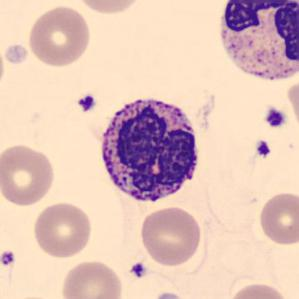Basophil: (94, 90, 206, 210)
Neutrophil: (208, 0, 299, 93)
Platelets: (5, 40, 29, 65), (263, 106, 288, 129), (76, 93, 98, 114), (254, 138, 272, 160), (149, 289, 187, 299), (128, 262, 148, 280), (0, 248, 17, 268)
RBC: (26, 3, 93, 68), (138, 204, 204, 268), (31, 200, 94, 260), (0, 141, 57, 207), (59, 258, 125, 299), (257, 189, 298, 247), (71, 0, 145, 16), (227, 281, 290, 299), (286, 77, 298, 131), (150, 290, 189, 299), (0, 37, 6, 95)
